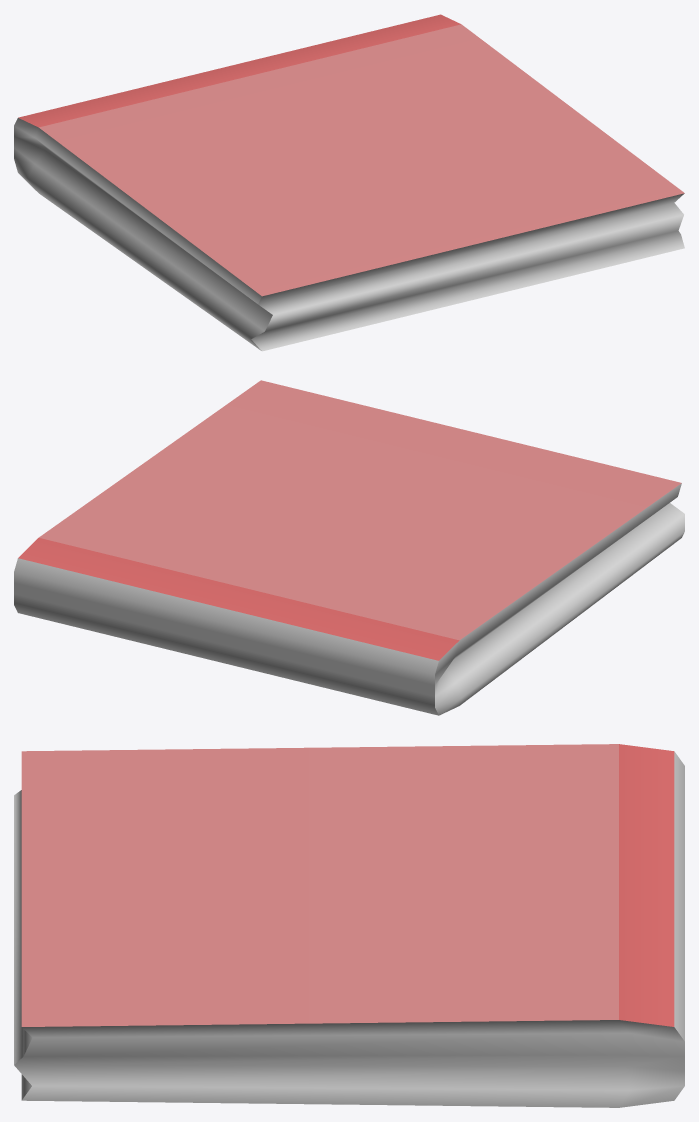
File: book.fbx
3 renders of one model, top to bottom at view 1: azimuth 30°, elevation 25°; view 2: azimuth 150°, elevation 25°; view 3: azimuth 270°, elevation 25°, orthographic. The views are drawn at different scales.
Parts seen in each view (by area): view 1: book1; view 2: book1; view 3: book1.
Boxes of the visible parts, x1,y1,x2,y2 form: book1: [14, 14, 684, 351]; book1: [14, 380, 684, 715]; book1: [14, 744, 684, 1107].
Bounding box in the file's own units: 45.82 × 6.71 × 46.33.
